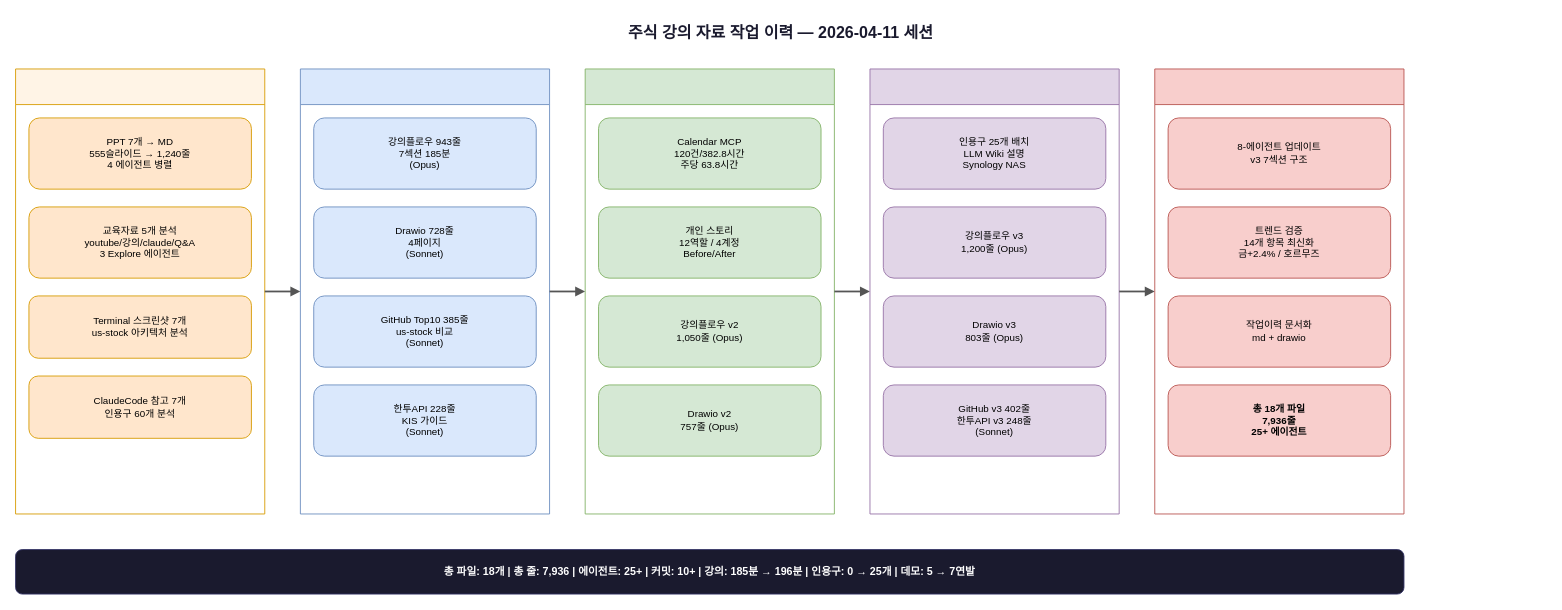
Some shapes in this 1562 by 610 pixel diagram are drawn without their labels. The box of each missing label's shape, as (x1, y1, x2, y2) in pixels:
Phase 1 자료 수집: (15, 68, 265, 514)
Phase 2 v1 생성: (299, 68, 550, 514)
Phase 3 v2 강화: (584, 68, 834, 514)
Phase 4 v3 통합: (869, 68, 1119, 514)
Phase 5 완성: (1154, 68, 1404, 514)
